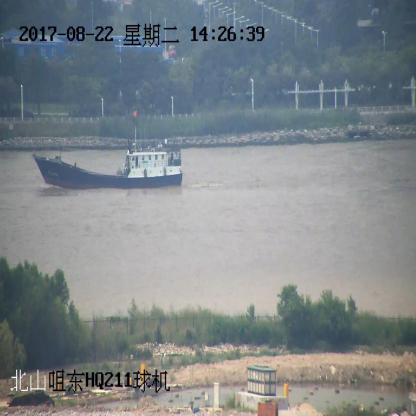Fishing Boat: (35, 111, 183, 190)
